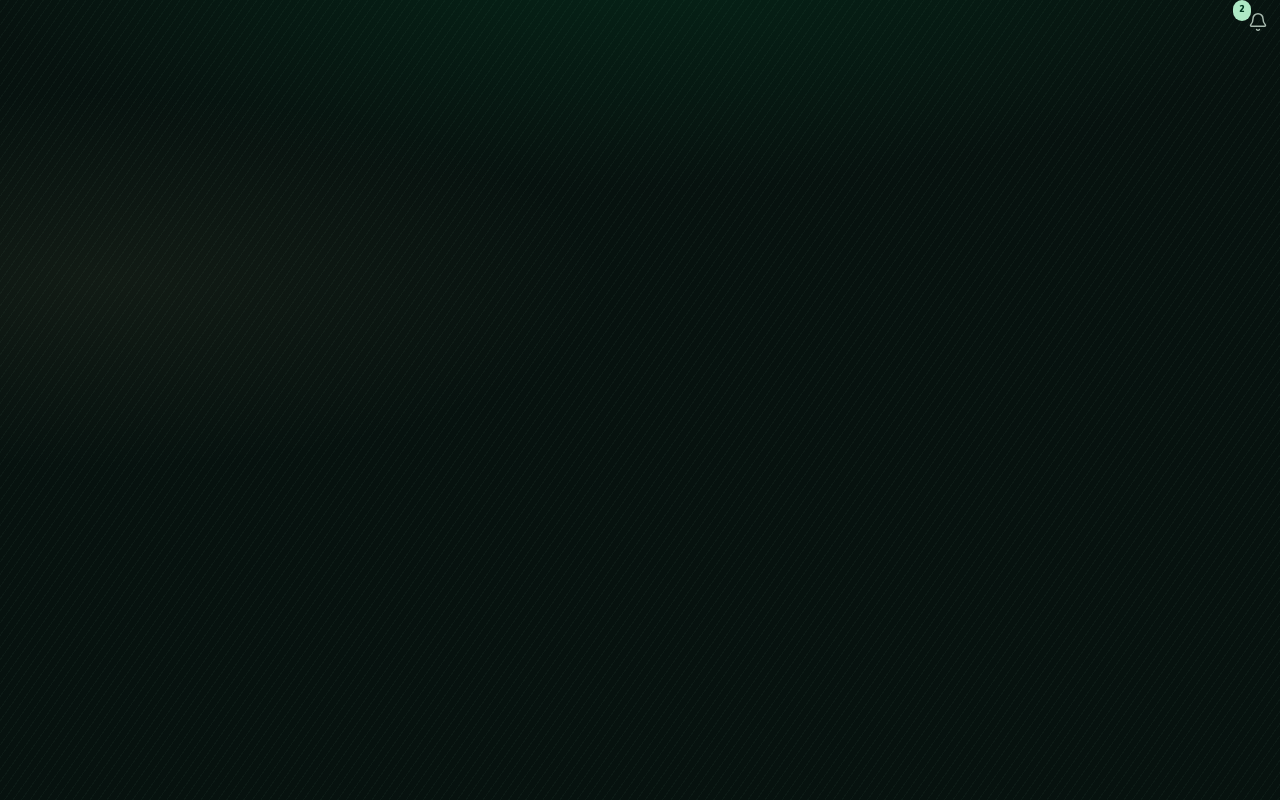
Test: Accessible notification inbox and in-place return › shows only the bell until opened, and removes selected messages without navigation
Click the button with class "notification-bell" at coordinates (1258, 22), box [1236,0,1279,44]
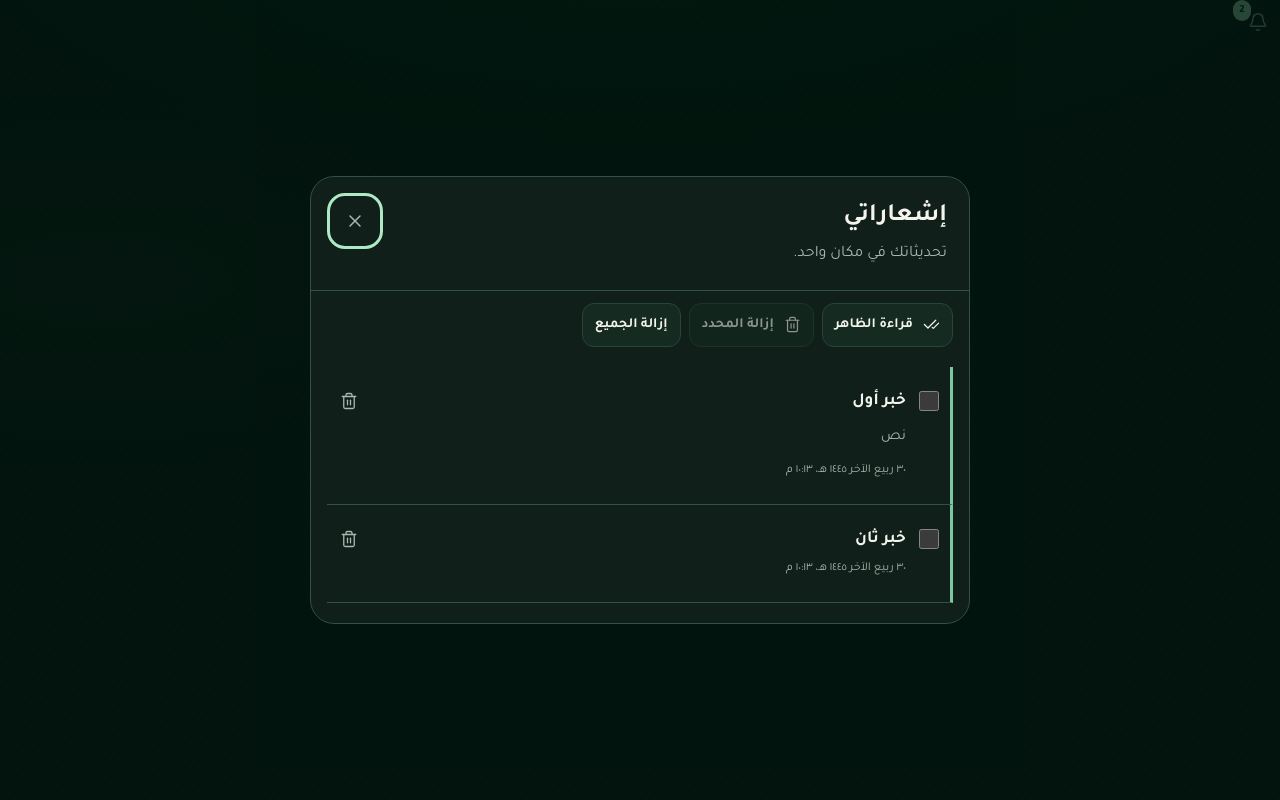
Now the 1st checkbox is shown
Click the 1st checkbox at coordinates (929, 401), box [919,391,939,411]
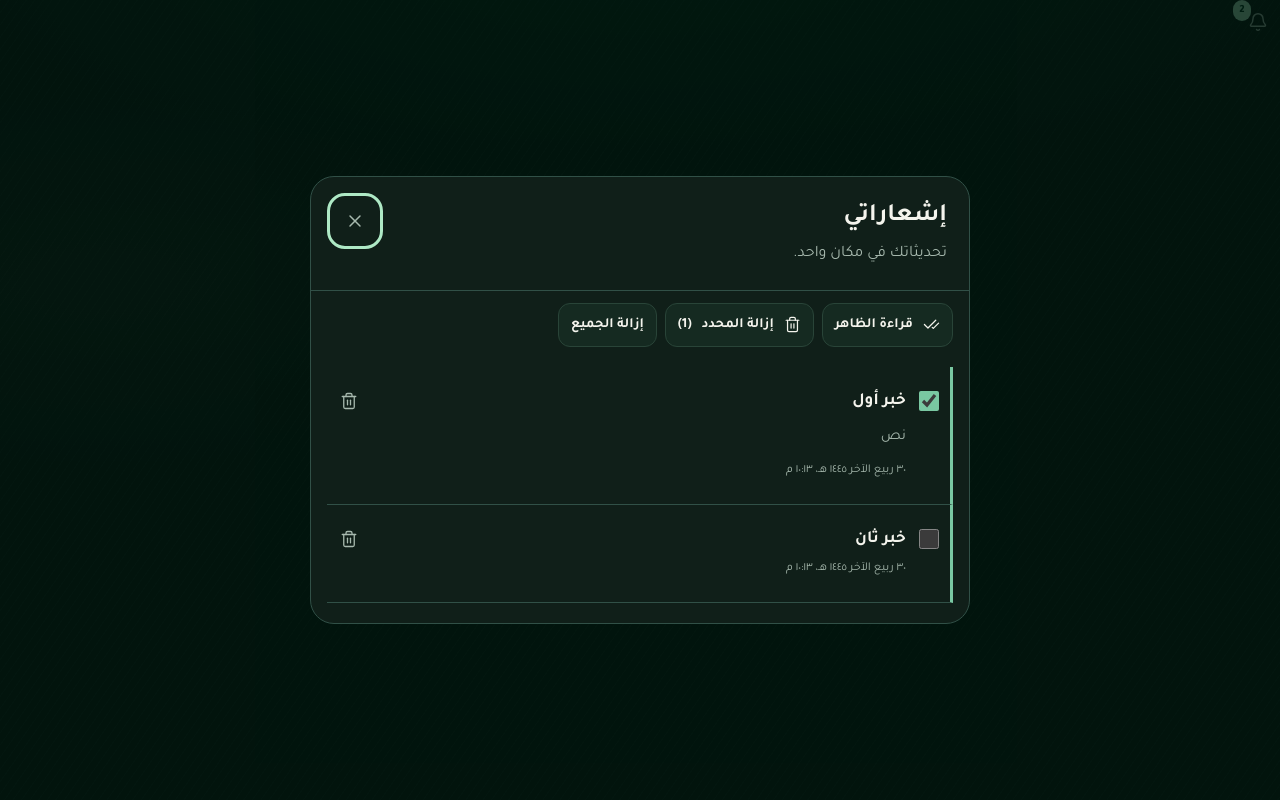
Now the button "إزالة المحدد (1)" is shown
Click the button "إزالة المحدد (1)" at coordinates (739, 325), box [665,303,814,347]
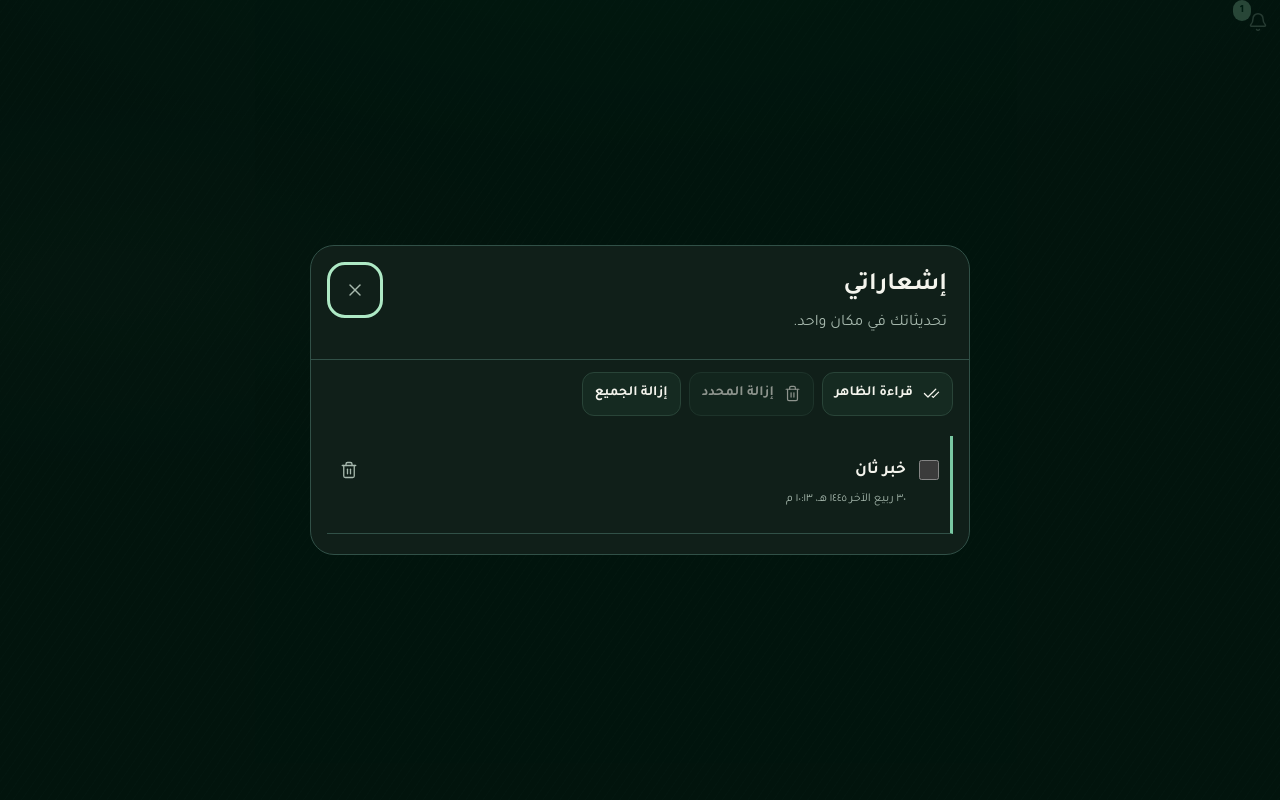
Now the button "إزالة الجميع" is shown
Click the button "إزالة الجميع" at coordinates (631, 394), box [582,372,681,416]
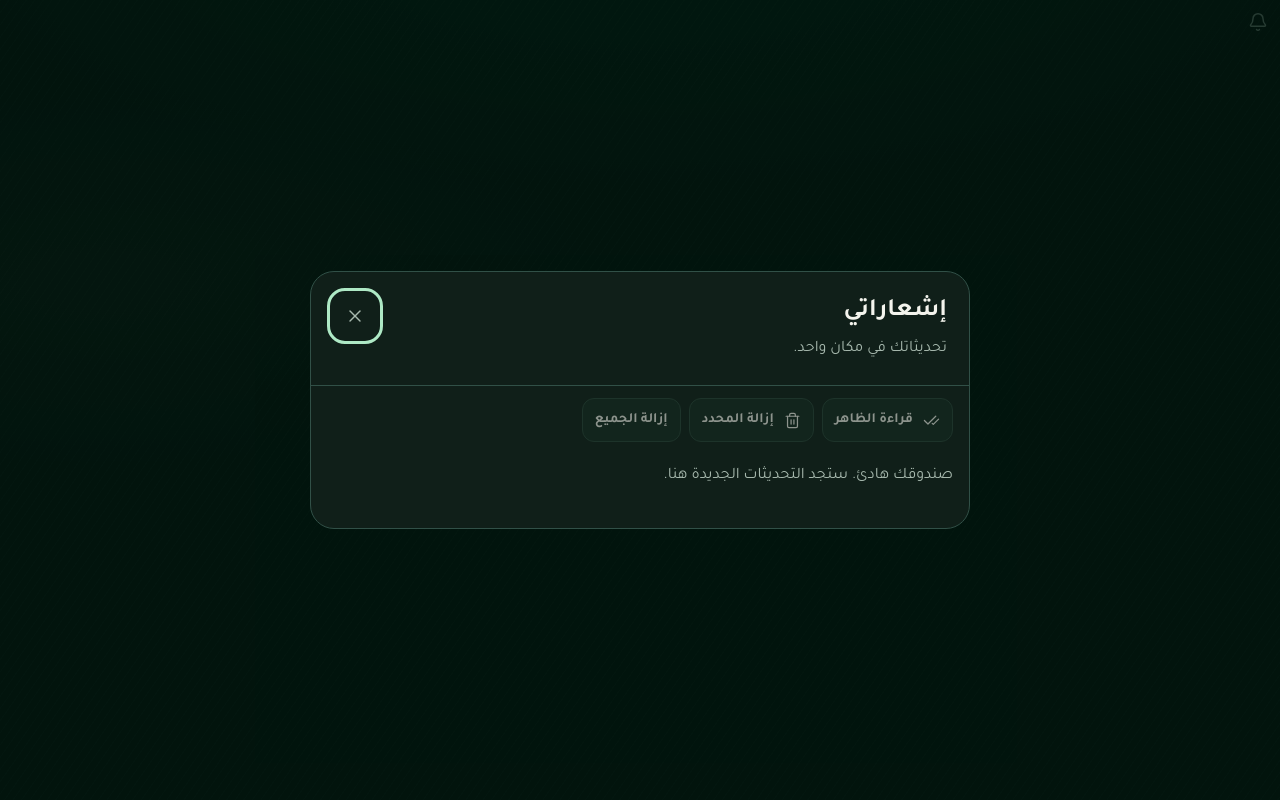
Now the button named "إغلاق الإشعارات" is shown
Click the button named "إغلاق الإشعارات" at coordinates (355, 316), box [333,294,377,338]
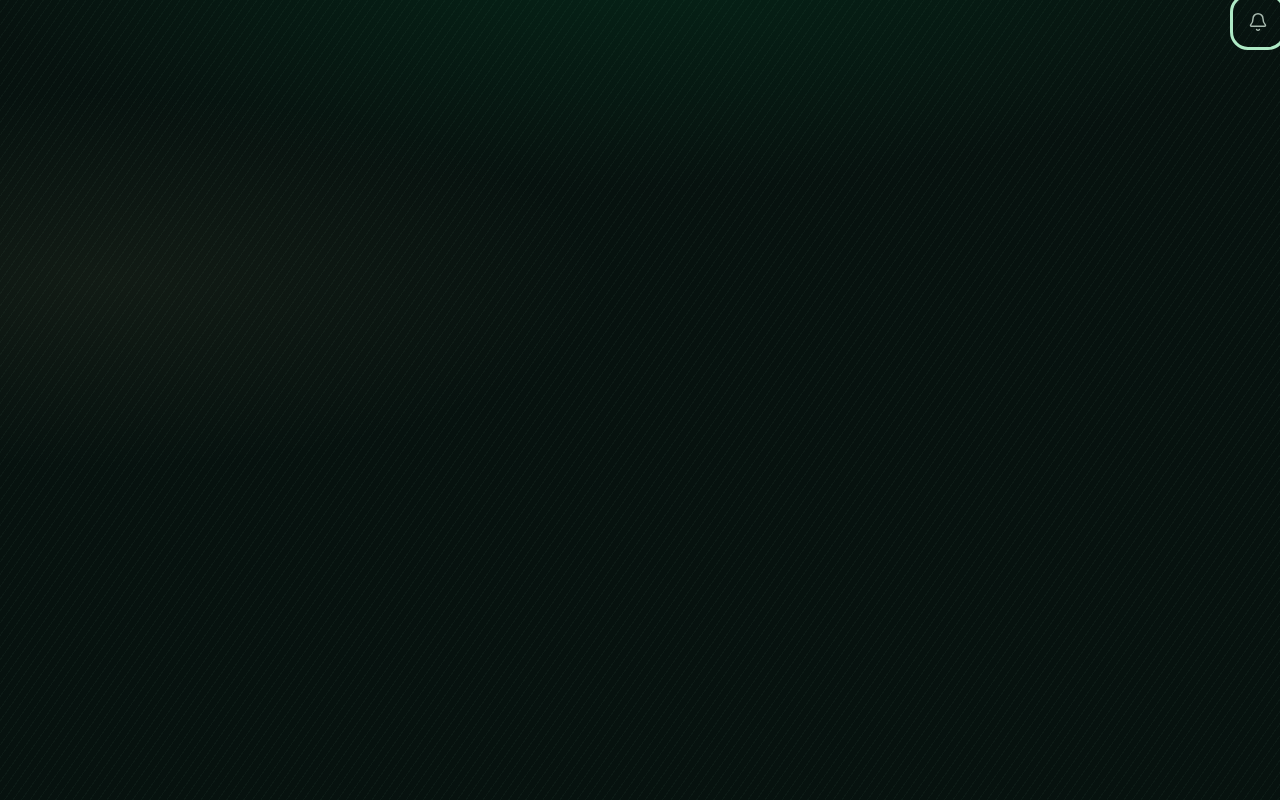
Now the dialog is gone
